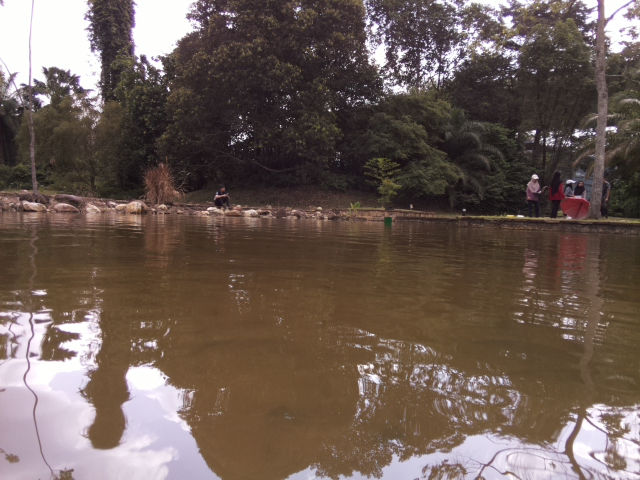obstacle: (383, 216, 393, 225)
